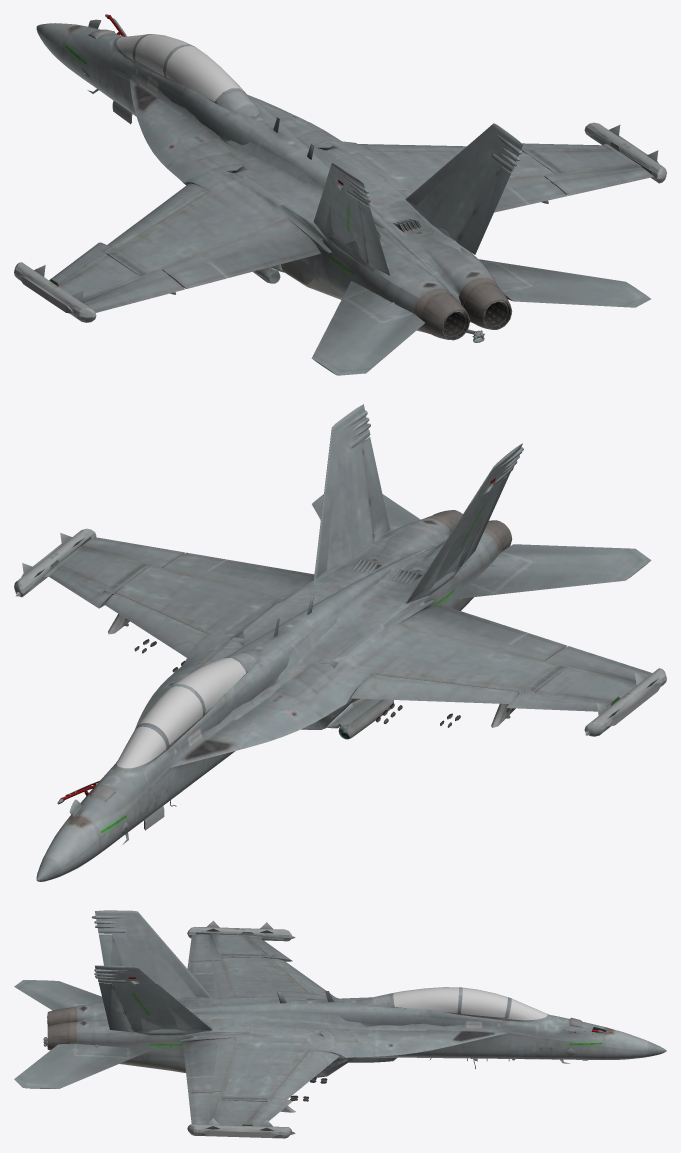
3 renders of one model, top to bottom at view 1: azimuth 30°, elevation 25°; view 2: azimuth 150°, elevation 25°; view 3: azimuth 270°, elevation 25°, orthographic. The views are drawn at different scales.
Parts seen in each view (by area): view 1: body|Material_26, body|Material_40, body|02_-_Default; view 2: body|Material_26, body|Material_40, body|02_-_Default; view 3: body|Material_26, body|Material_40, body|02_-_Default.
Boxes of the visible parts, x1=… form: body|Material_26: x1=36, y1=14, x2=653, y2=375; body|Material_40: x1=14, y1=25, x2=666, y2=374; body|02_-_Default: x1=116, y1=34, x2=521, y2=153; body|Material_26: x1=16, y1=404, x2=652, y2=881; body|Material_40: x1=14, y1=404, x2=666, y2=844; body|02_-_Default: x1=116, y1=658, x2=246, y2=768; body|Material_26: x1=18, y1=910, x2=666, y2=1134; body|Material_40: x1=14, y1=912, x2=615, y2=1138; body|02_-_Default: x1=94, y1=970, x2=547, y2=1020.
Bounding box in the file's own units: 13.63 × 4.13 × 18.31.
3 materials, 2 textured.
